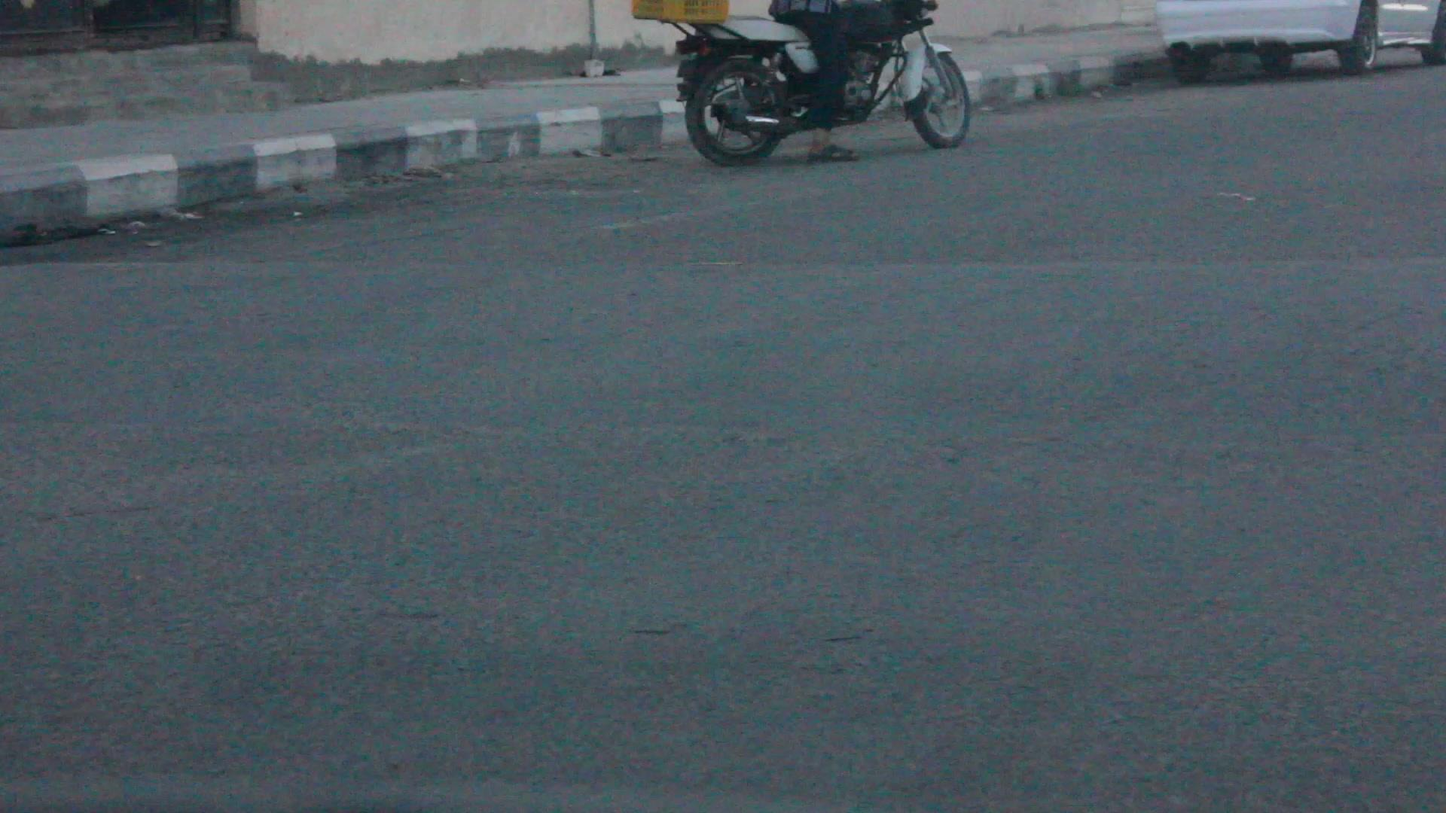Bump: (17, 247, 1446, 459)
